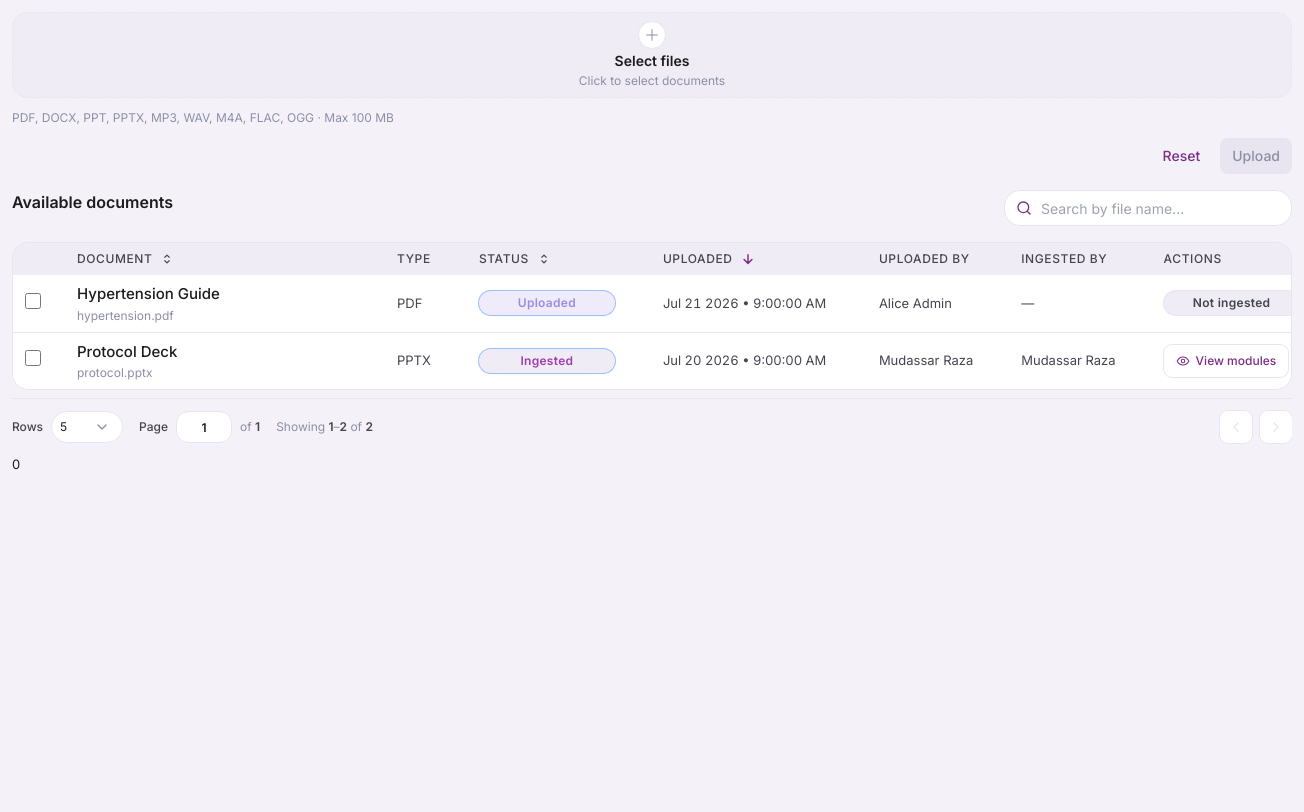
Scenario: DocumentSelectionPanel › toggles selection, locks available checkboxes, and shows selected table only when needed
Expected: the text "Available documents" is shown, [12,190,173,214]
Expected: the text "selected for ingestion" is not shown
Click the checkbox named "select hypertension guide": (33, 300) [25,292,41,308]
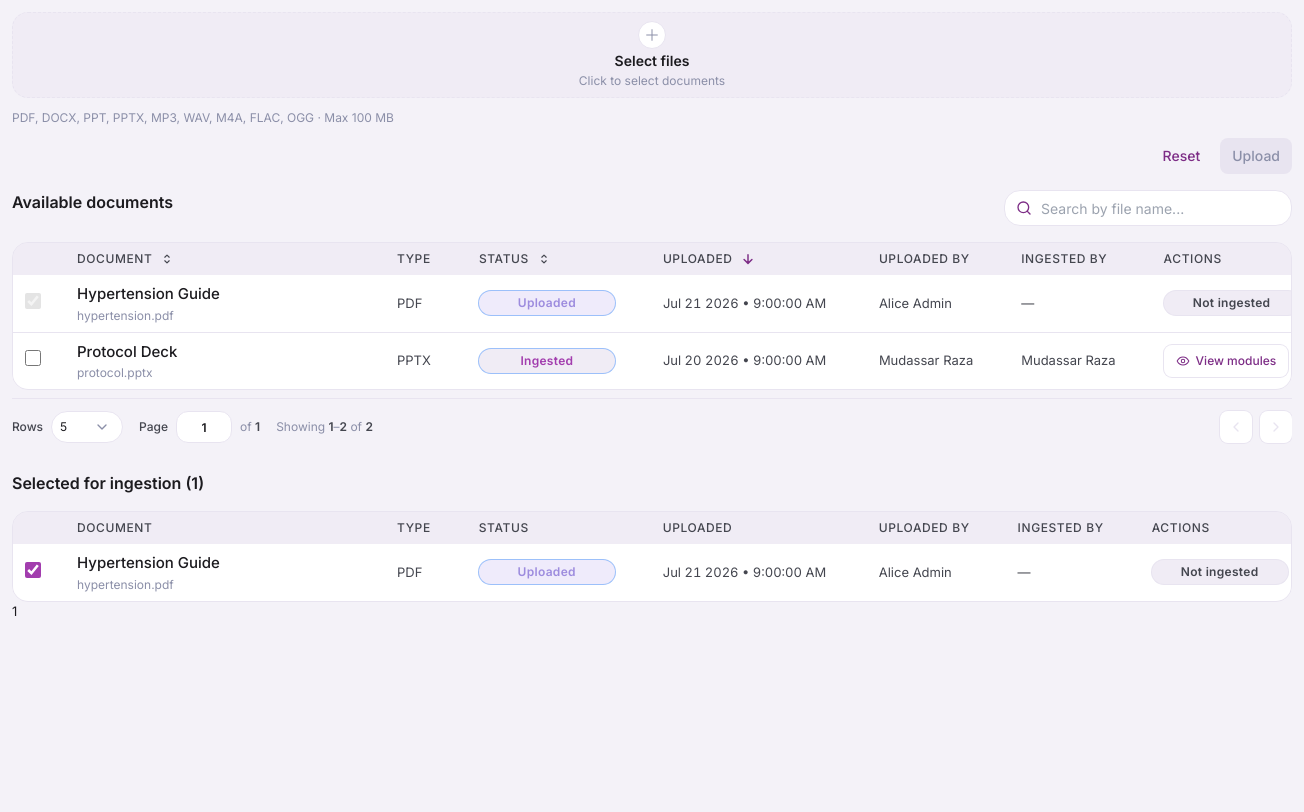
Now the checkbox named "hypertension guide selected" is checked, box [25,292,41,308]
Now the text with test id "selected-count" reads "1", box [12,602,17,618]
Now the text "Selected for ingestion (1)" is shown, box [12,471,204,495]
Click the checkbox named "select hypertension guide": (33, 570) [25,562,41,578]
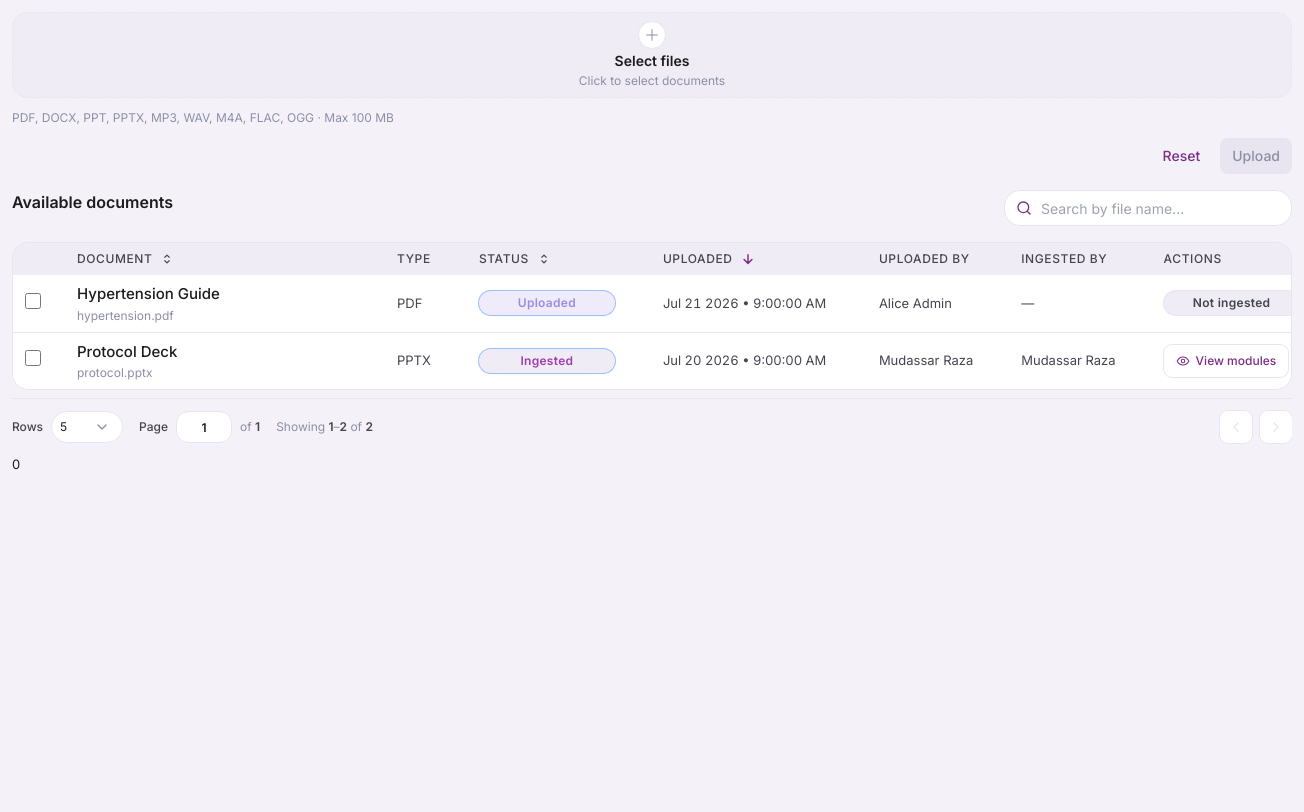
Now the text with test id "selected-count" reads "0", box [12,456,20,472]
Now the text "Selected for ingestion" is gone
